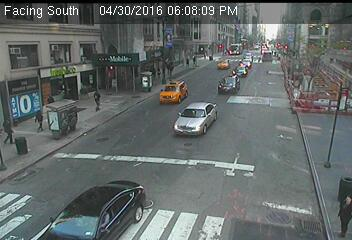neg: (140, 107, 173, 152), (264, 47, 288, 79), (295, 50, 315, 76), (317, 31, 336, 56), (238, 54, 252, 72), (223, 88, 237, 105)
pos: (326, 188, 351, 237), (88, 85, 107, 110), (27, 108, 44, 132)
